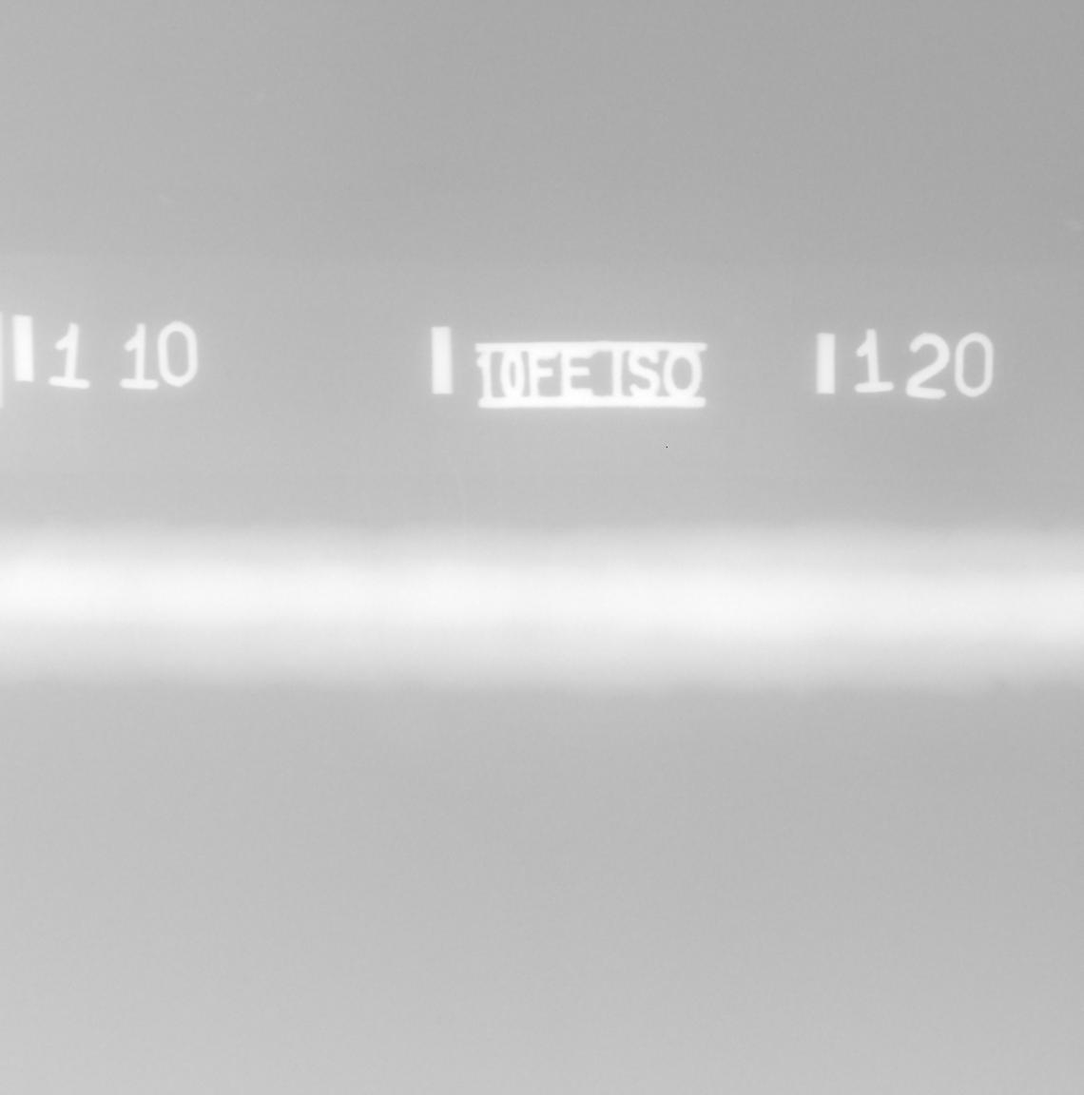Pore/Porosity: (1009, 615, 1015, 622)
